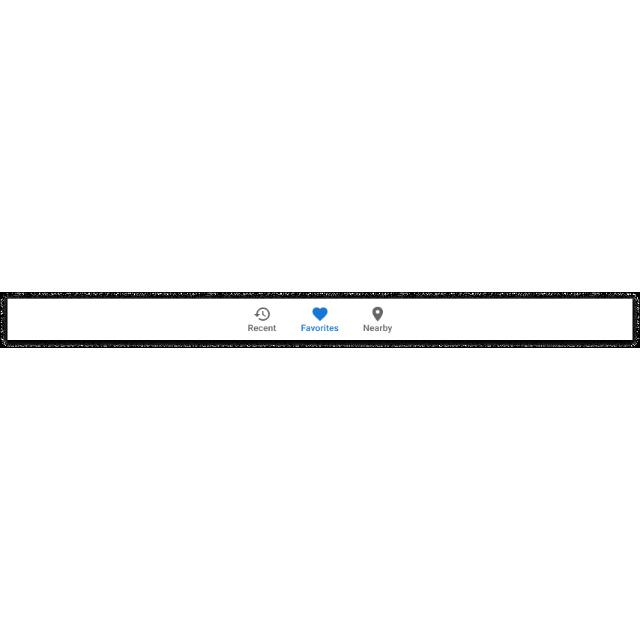QLabel: (300, 325, 338, 333), (247, 325, 277, 333), (363, 325, 392, 333)
VBottomNavigation: (7, 300, 633, 342)
VIcon: (254, 308, 272, 322), (312, 308, 328, 322), (372, 308, 384, 322)
